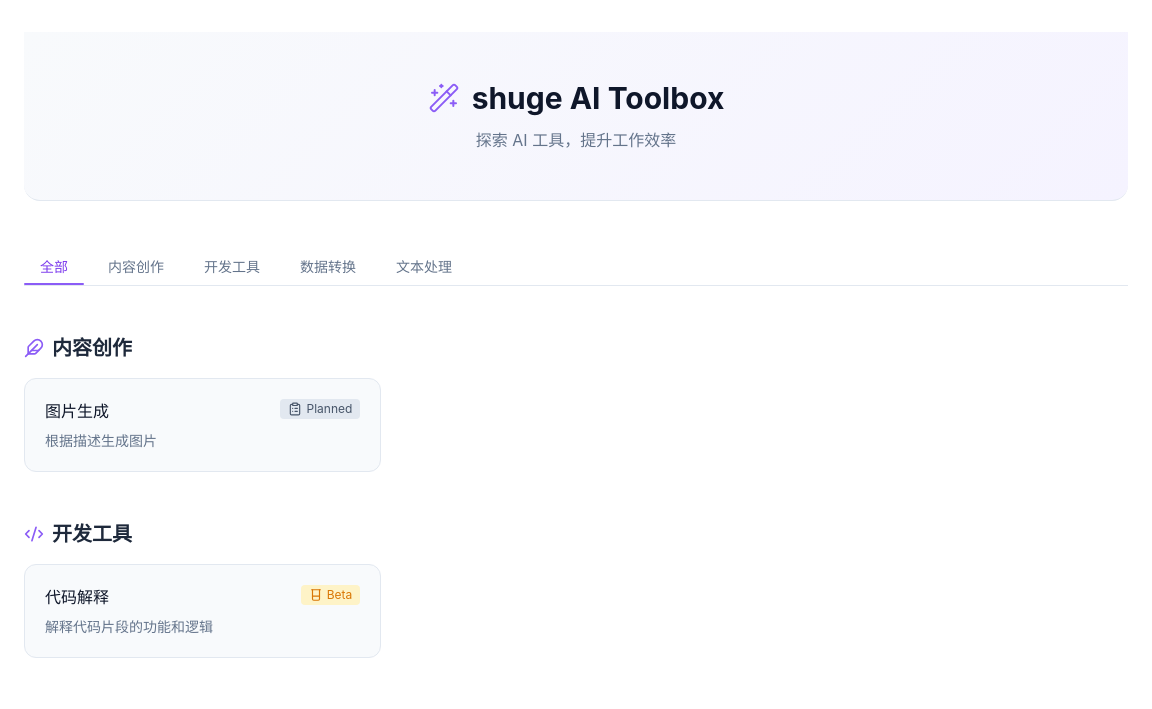
Home Tab 导航 › 点击分类 Tab 过滤卡片，仅显示该分类工具
Click the button "文本处理" at (424, 267), box [380,249,468,285]
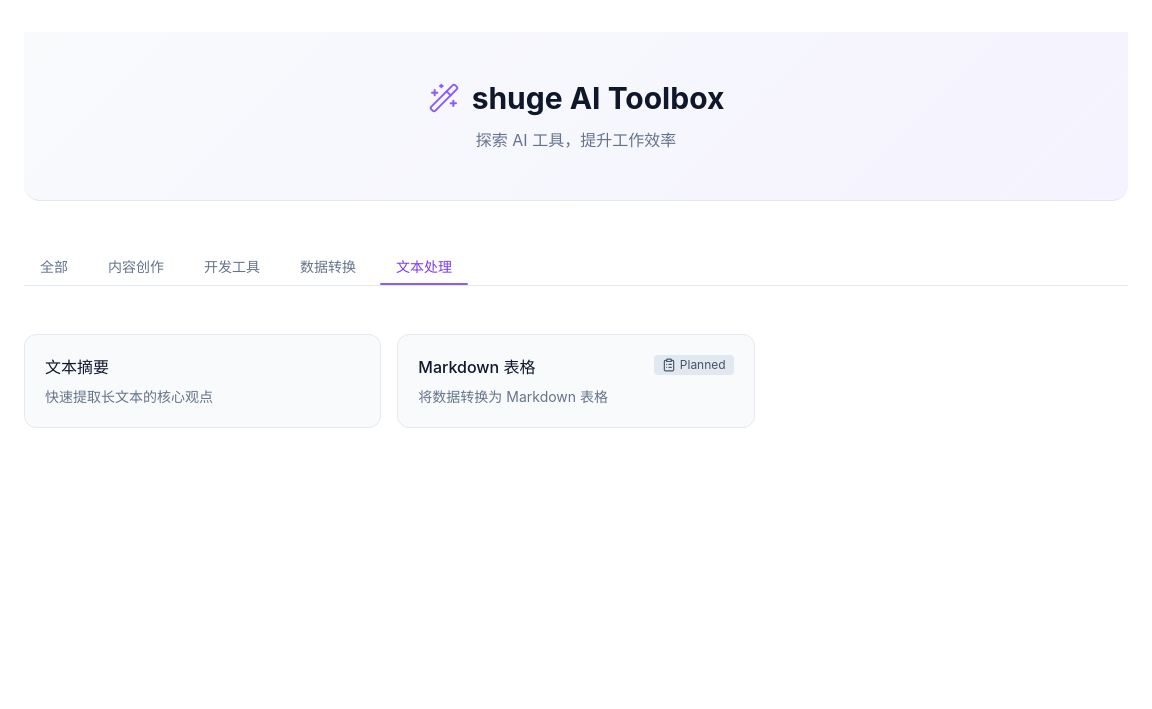
Result: the number of links is 2 at [24,334,381,428]; [397,334,755,428]
